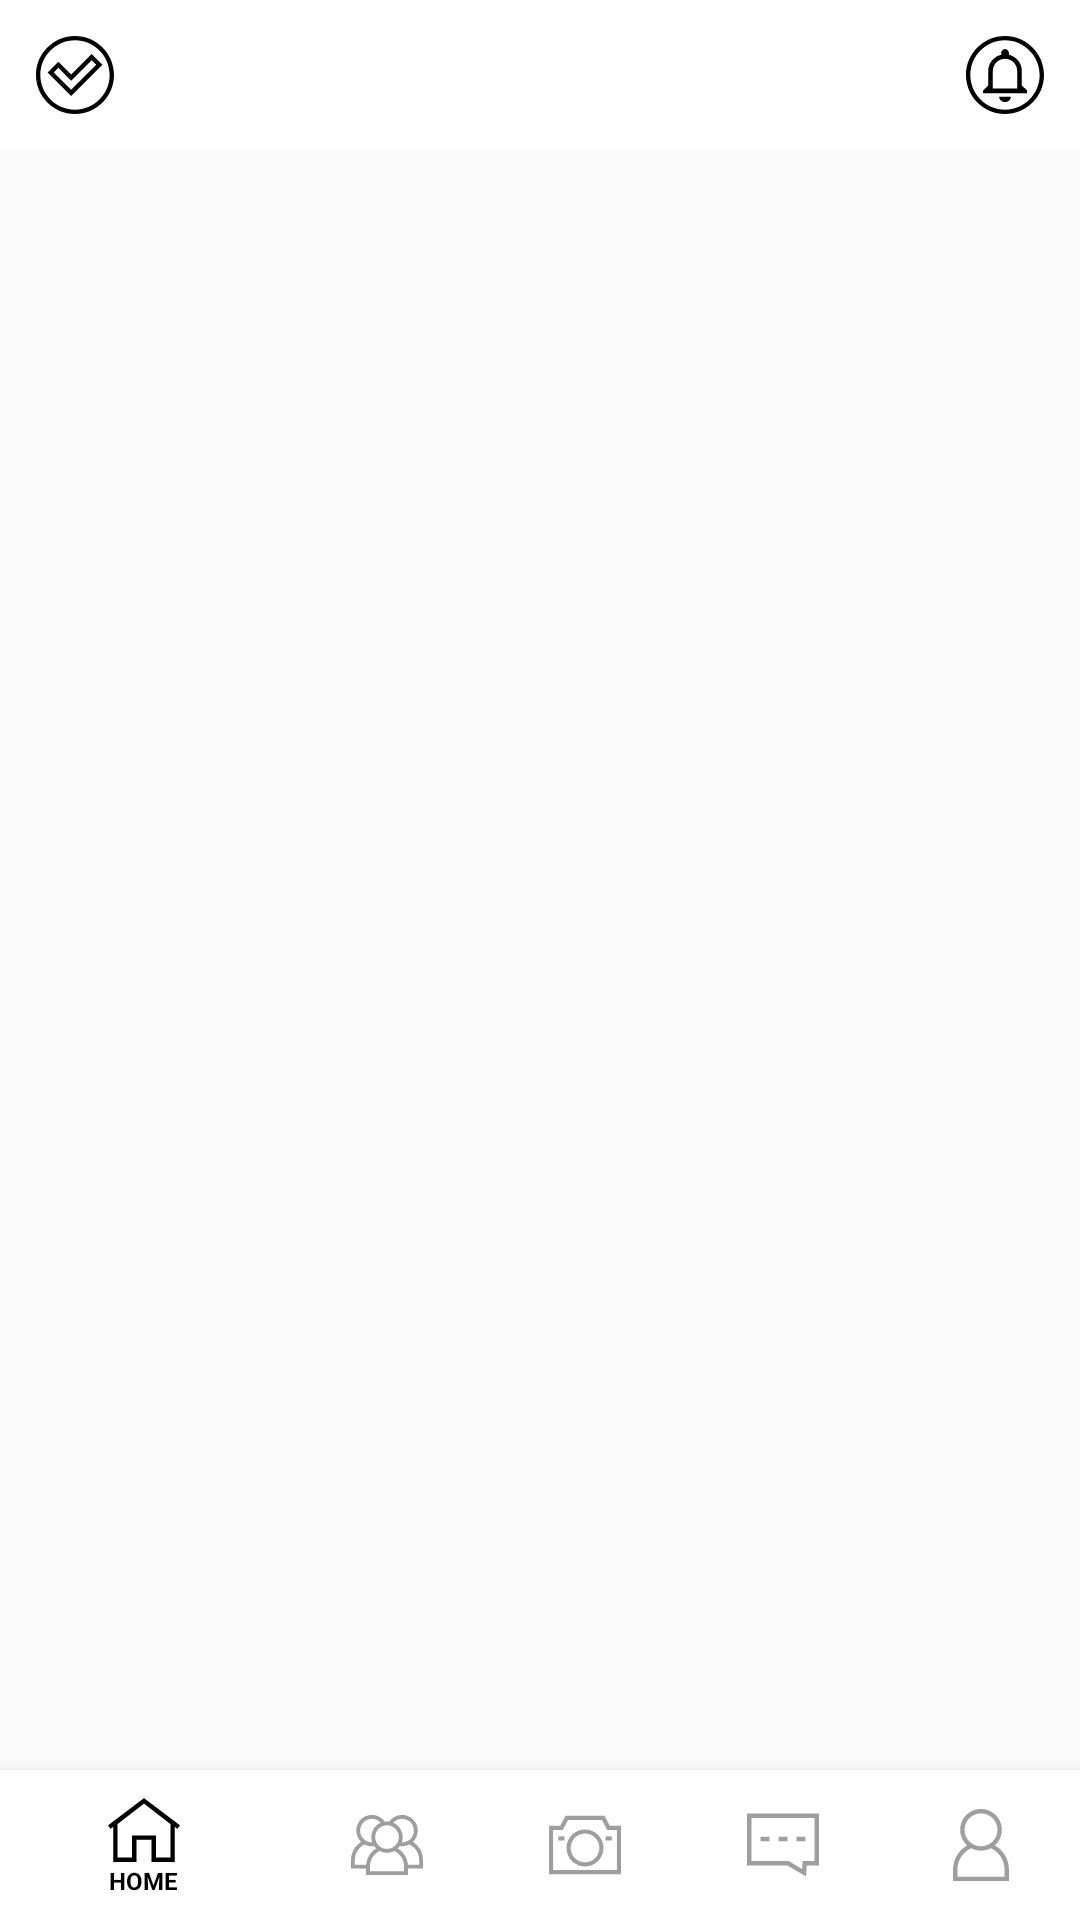

Where to tap for icons on this 1080px×1920px app screen, as (x,y):
notifikasi: (1005,75)
